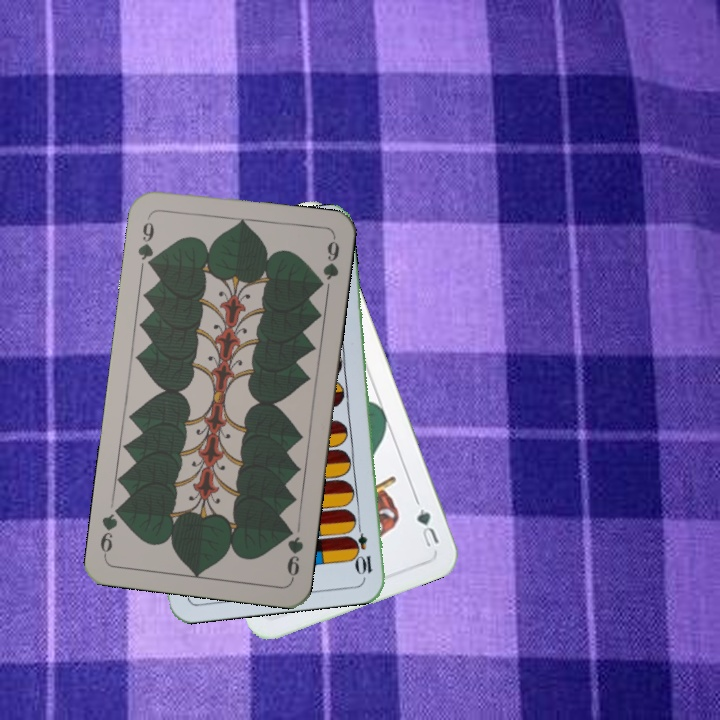E10: (351, 518, 375, 577)
G9: (282, 522, 306, 582), (133, 212, 157, 272)
GU: (412, 504, 442, 550)
